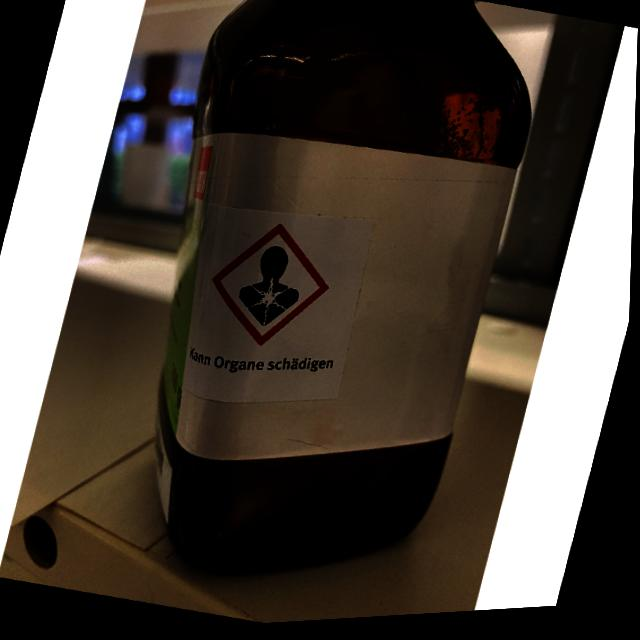serious health hazard: (233, 243, 311, 338)
